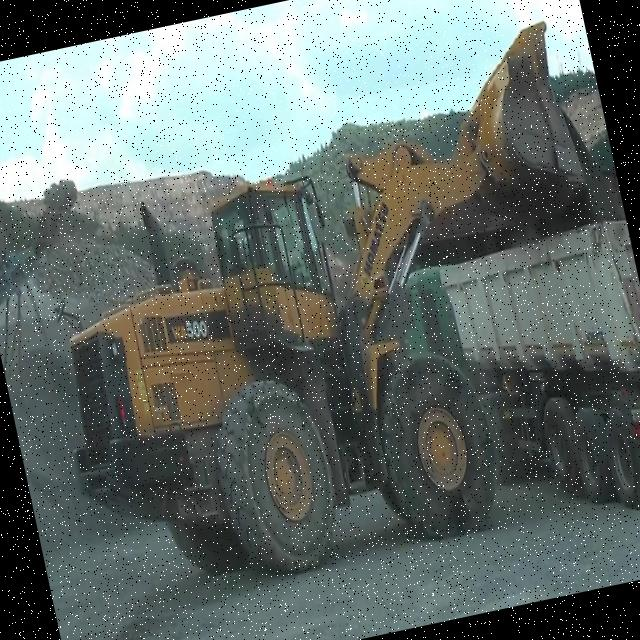Dump Truck: (391, 219, 640, 549)
Loader: (4, 17, 640, 614)
